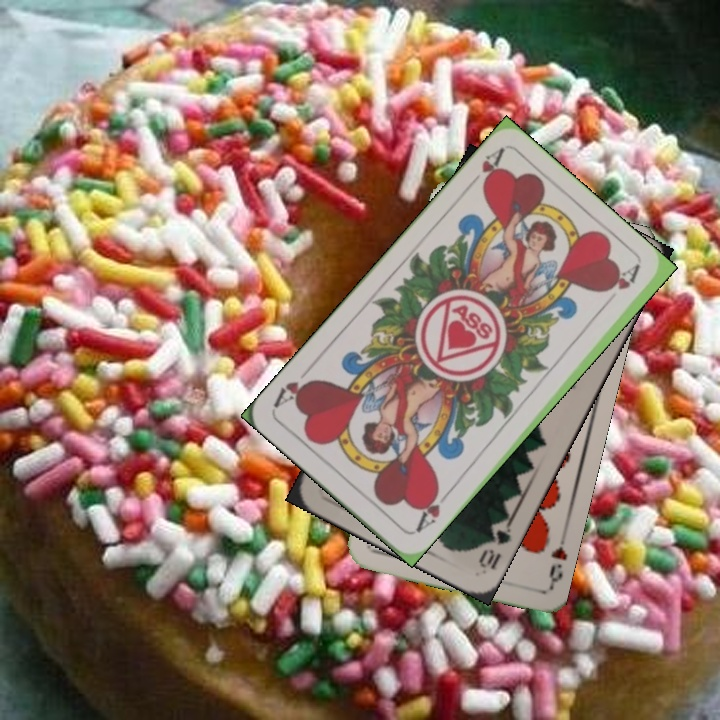G10: (474, 516, 514, 573)
H9: (545, 530, 570, 589)
HA: (411, 483, 453, 536), (461, 145, 506, 194)
